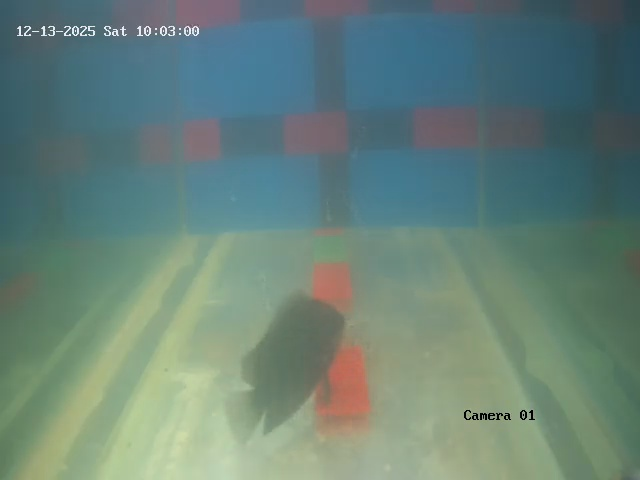fish: (232, 296, 351, 405)
